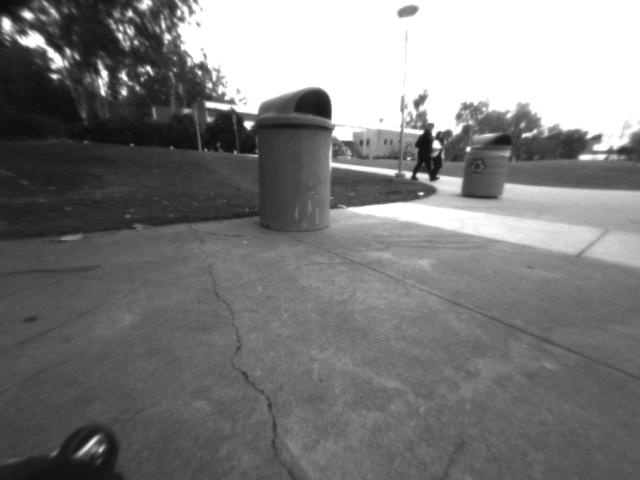trashcan: (253, 81, 335, 235)
